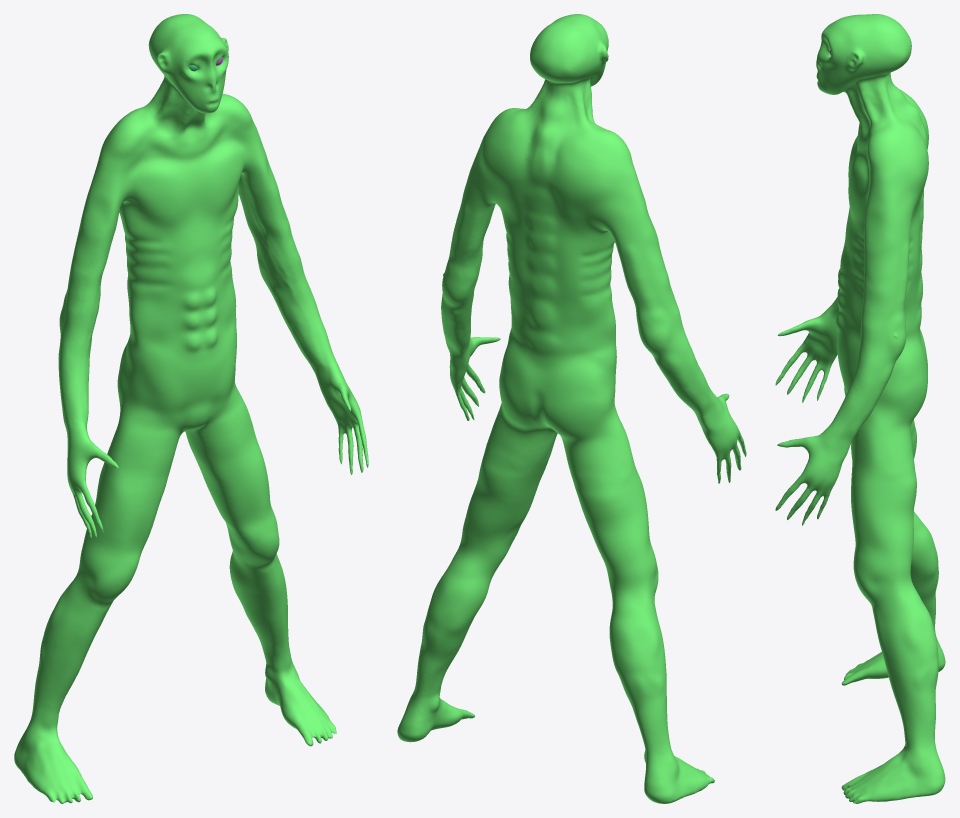
3 views of the same model, side by side, from view 1: azimuth 30°, elevation 25°; view 2: azimuth 150°, elevation 25°; view 3: azimuth 270°, elevation 25° (orthographic). The views are drawn at different scales.
Visible parts, largest first — view 1: split_parent_2; view 2: split_parent_2; view 3: split_parent_2.
Boxes of the visible parts, box(x1,y1,x2,y2) form: split_parent_2: box(14, 14, 368, 803); split_parent_2: box(397, 14, 746, 803); split_parent_2: box(775, 14, 945, 803).
Bounding box in the file's own units: 0.4096 × 1 × 0.2138.
